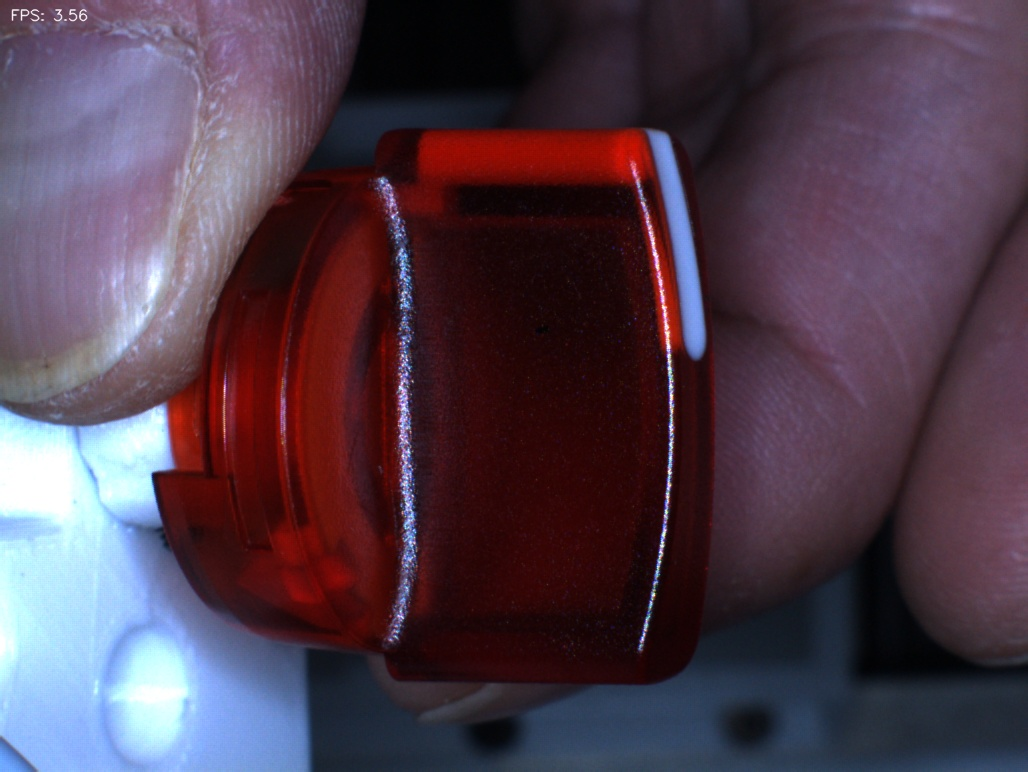PointNoir: (507, 292, 587, 367)
